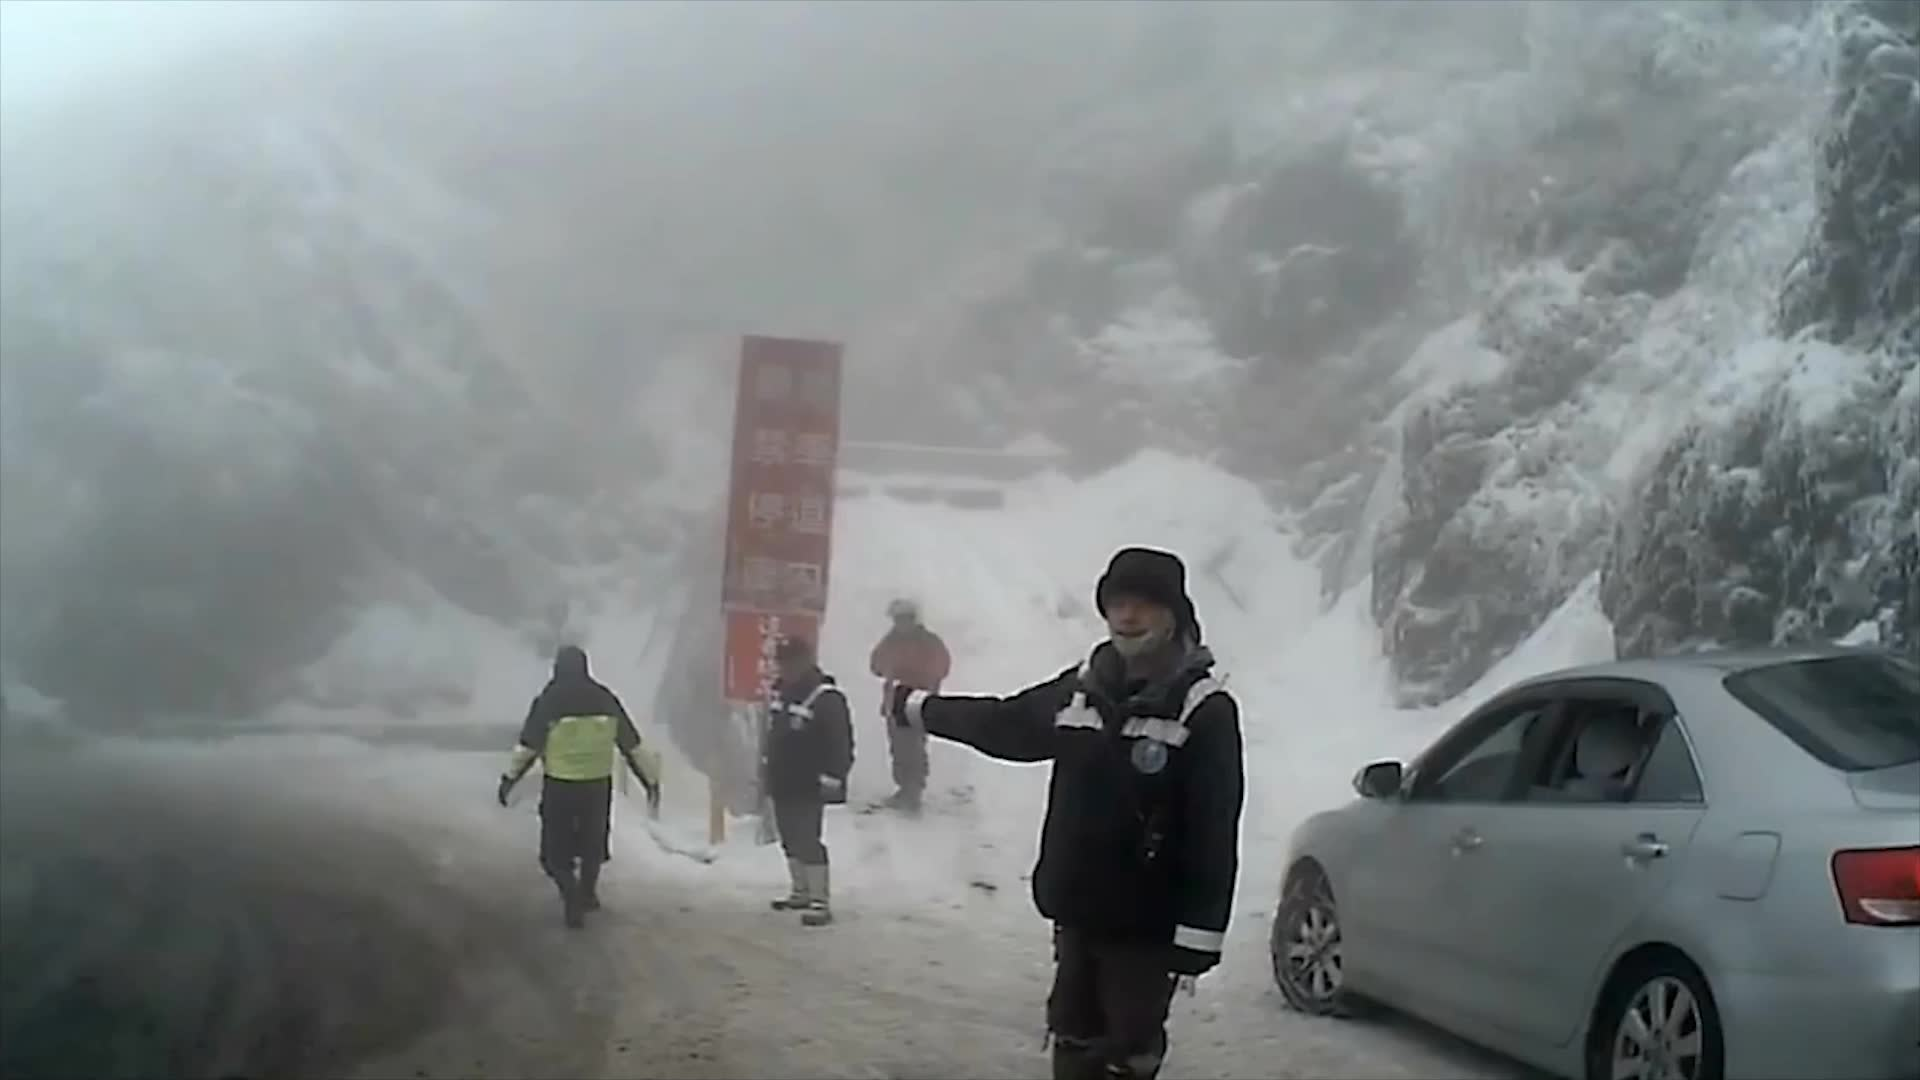pedestrian: (880, 549, 1248, 1080), (510, 648, 663, 924), (764, 633, 854, 925), (867, 596, 953, 818)
vehicle: (1266, 648, 1920, 1080)
